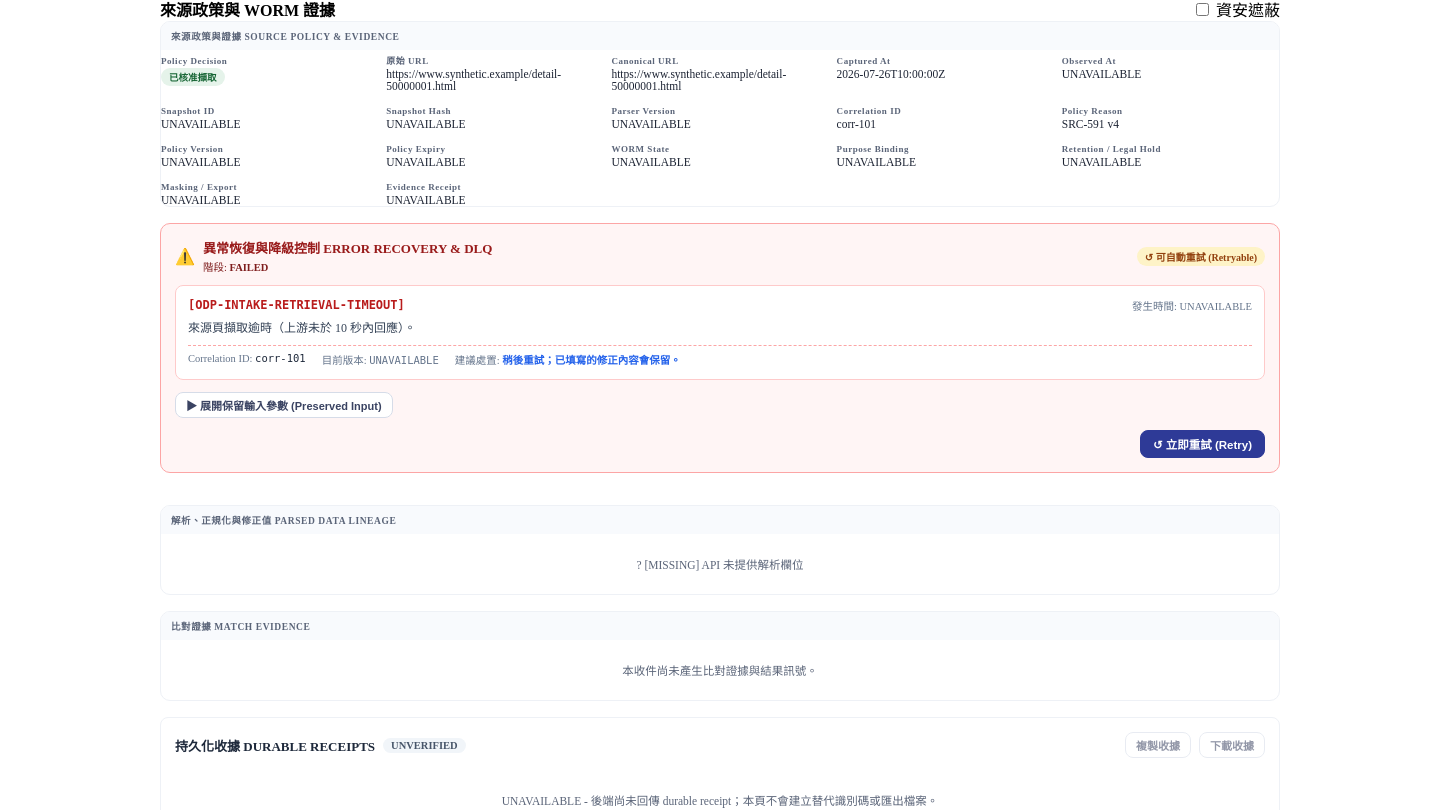
Test: IntakeProcessingDetail production composition › preserves the durable submitted URL when retrieval fails before parsing
The width and height of the screenshot is (1440, 810).
(page scrolled)
What coordinates should you click on to do the following:
click the button with test id "error-toggle-preserved-input"
I would click on:
 (284, 405)
Its box is [175,392,393,418].
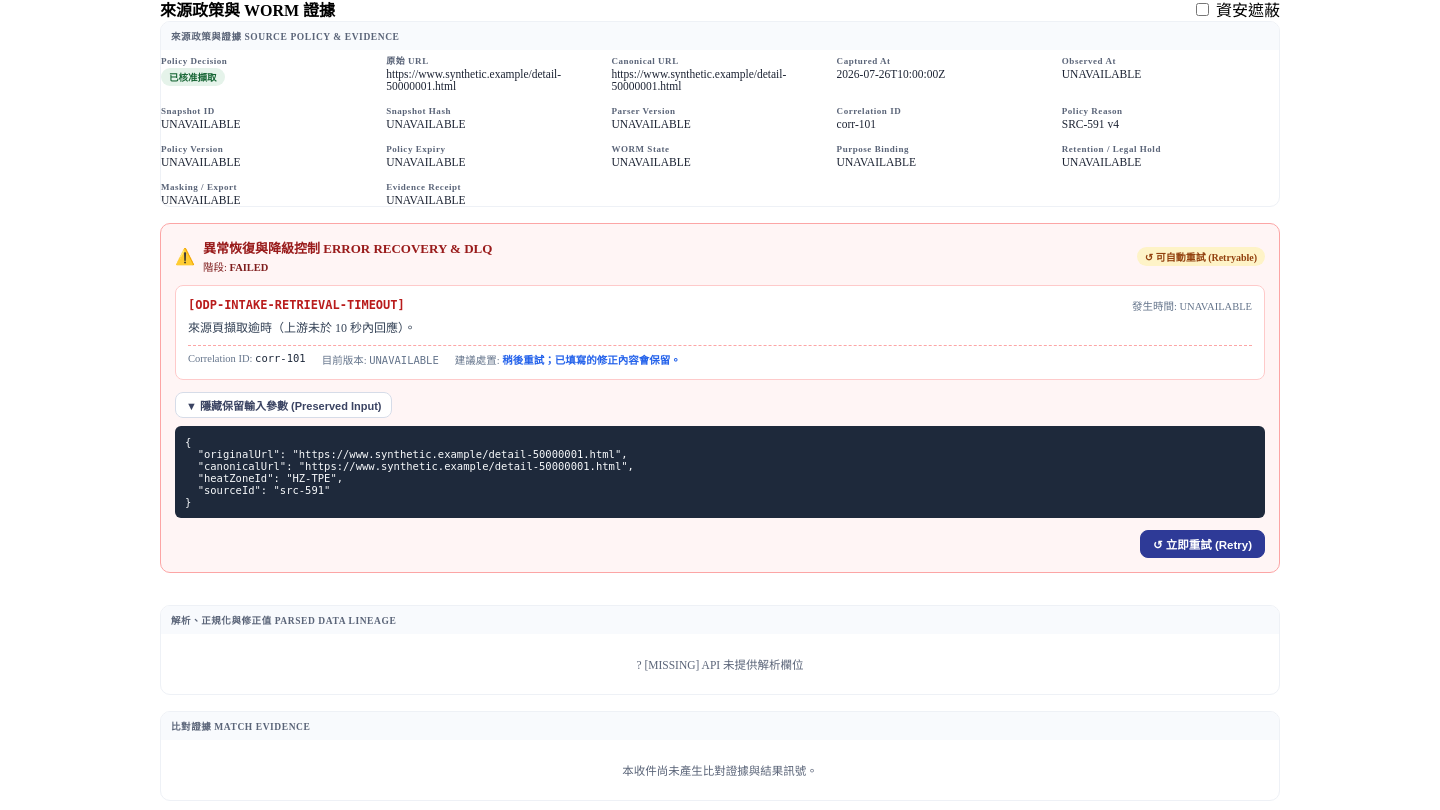
expect the text with test id "error-retryable-badge" shows "可自動重試": met, box [1145,252,1257,263]
expect the element with test id "error-preserved-input-box" shows "https://www.synthetic.example/detail-50000001.html": met, box [185,436,634,508]
expect the element with test id "error-preserved-input-box" shows "HZ-TPE": met, box [185,436,634,508]
